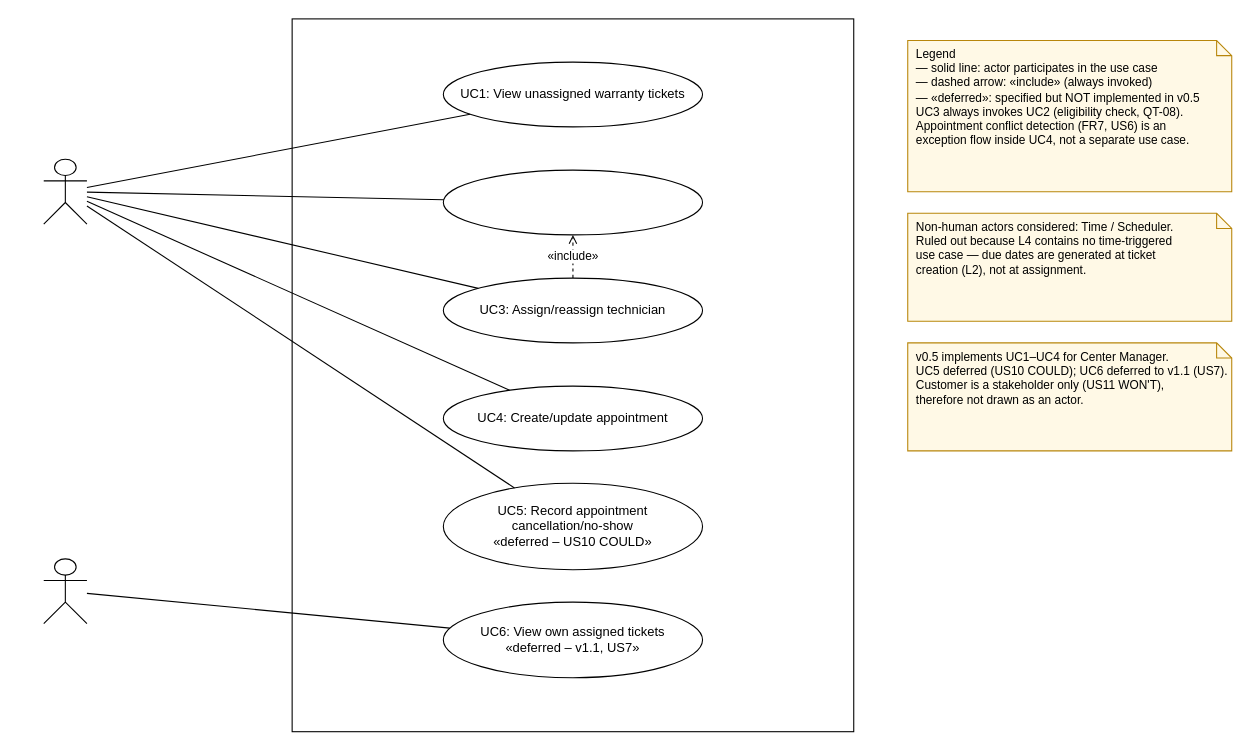
This 1251x751 diagram has some shape labels left out. The box of each missing label's shape, as (x1, y1, x2, y2) in pixels:
Center Manager: (43, 158, 87, 224)
System: Technician Assignment & Appointment Scheduling (Flow L4) — v0.5: (291, 18, 854, 732)
Technician (deferred v1.1): (43, 558, 87, 624)
UC2: Suggest qualified technicians: (442, 169, 703, 235)
